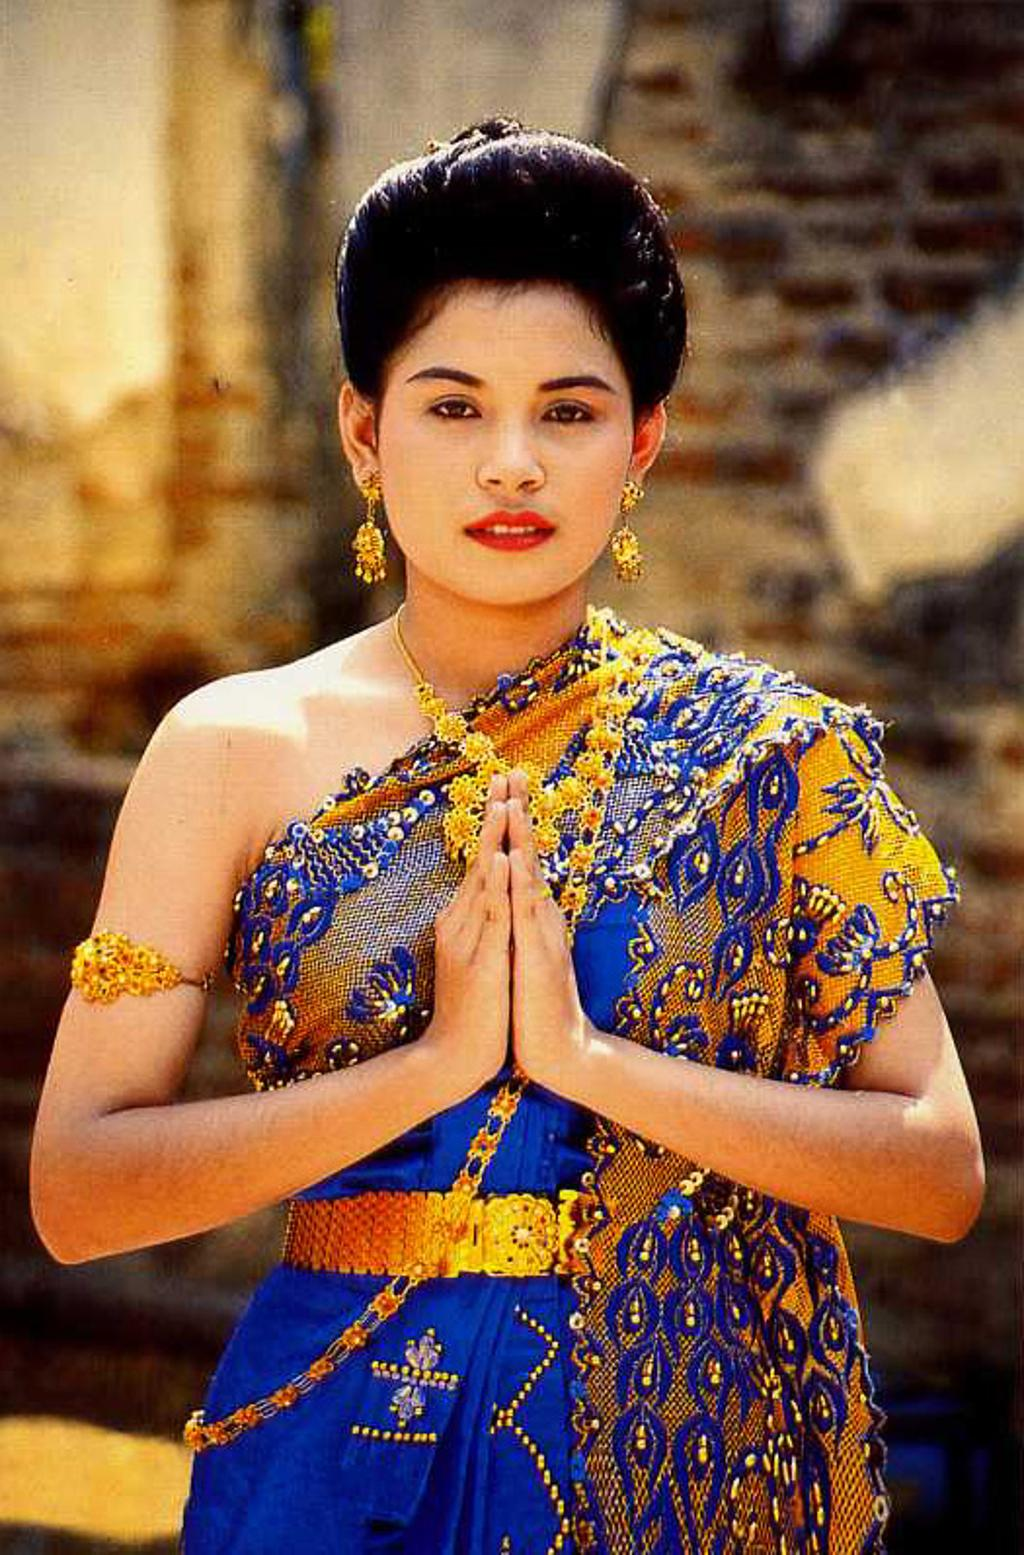face: (380, 283, 635, 602)
